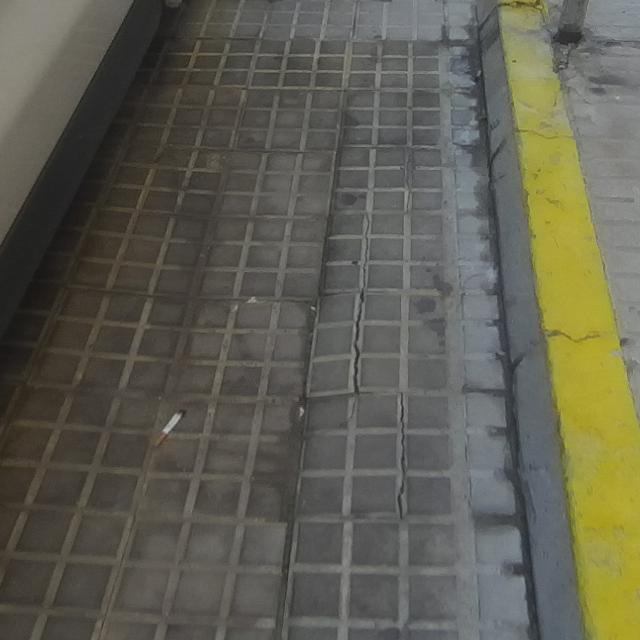calcada_quebrada: (396, 393, 412, 519), (351, 290, 366, 395), (360, 213, 373, 292)
